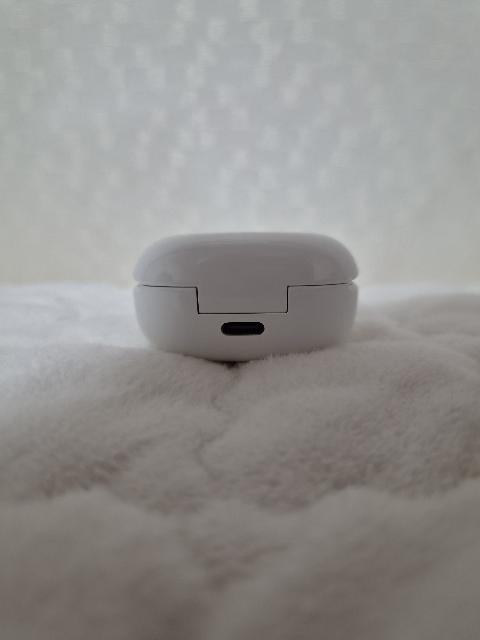earphone_case: (133, 232, 359, 362)
